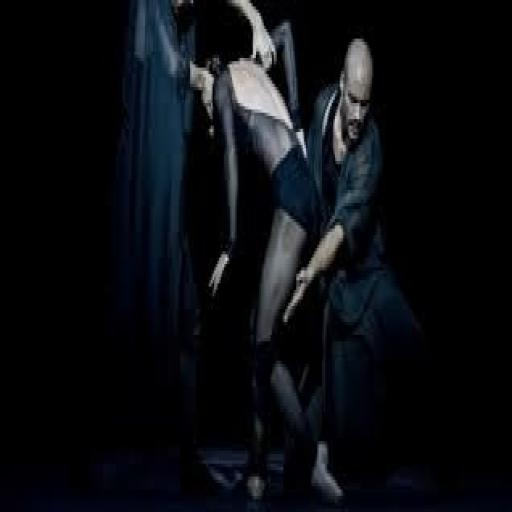dancing: (65, 7, 405, 505)
